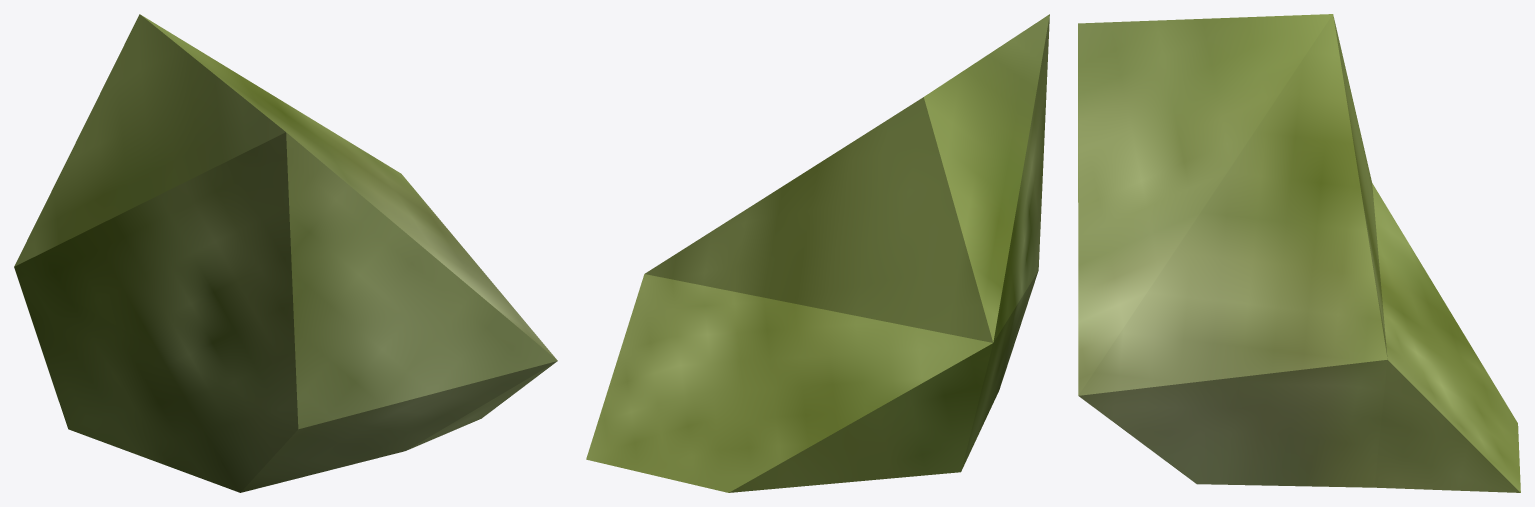
3 renders of one model, left to right at view 1: azimuth 30°, elevation 25°; view 2: azimuth 150°, elevation 25°; view 3: azimuth 270°, elevation 25°, orthographic. The views are drawn at different scales.
Size of the model in its own units: 0.1274 by 0.1265 by 0.1417.
1 material, 1 textured.
